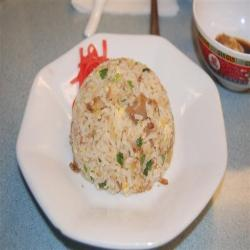rice: (65, 58, 180, 202)
